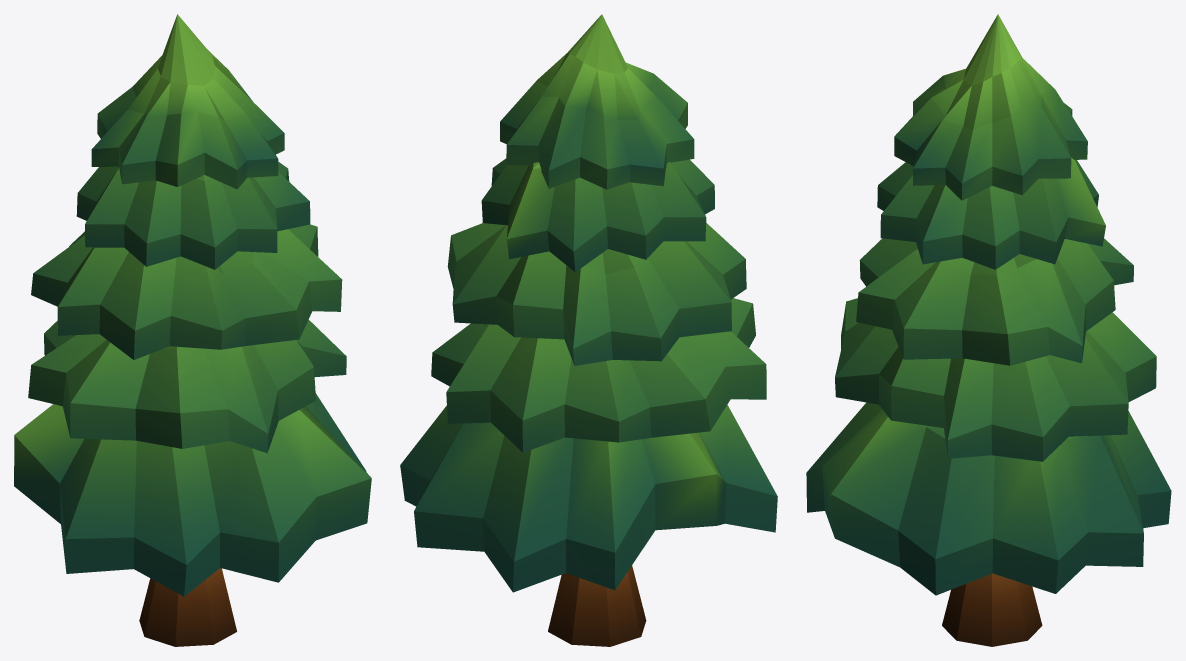
Rendered from Tree_Fern_Medium_SumAut.fbx.
3 views of the same model, side by side, from view 1: azimuth 30°, elevation 25°; view 2: azimuth 150°, elevation 25°; view 3: azimuth 270°, elevation 25° (orthographic).
Visible parts, largest first — view 1: Tree_Fern_Medium_SumAut; view 2: Tree_Fern_Medium_SumAut; view 3: Tree_Fern_Medium_SumAut.
Boxes of the visible parts, x1=… form: Tree_Fern_Medium_SumAut: x1=14, y1=14, x2=371, y2=646; Tree_Fern_Medium_SumAut: x1=400, y1=14, x2=777, y2=646; Tree_Fern_Medium_SumAut: x1=806, y1=14, x2=1171, y2=646.
Bounding box in the file's own units: 232 × 434 × 236.
